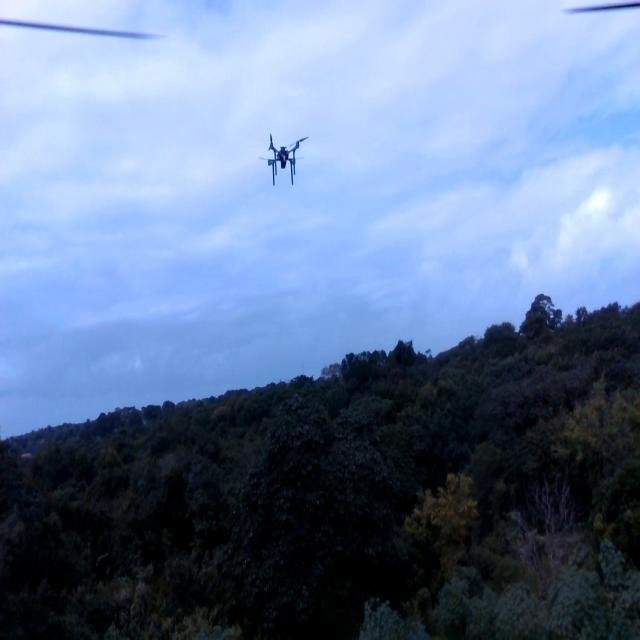-uav-: (250, 114, 314, 200)
